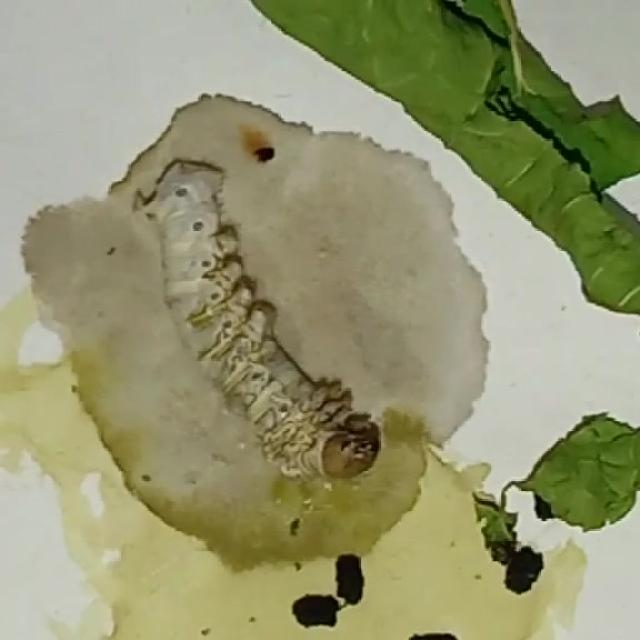Grasserie: (131, 138, 400, 484)
